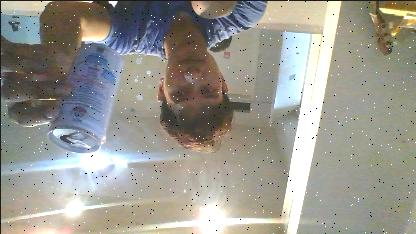Can: (43, 38, 123, 154)
